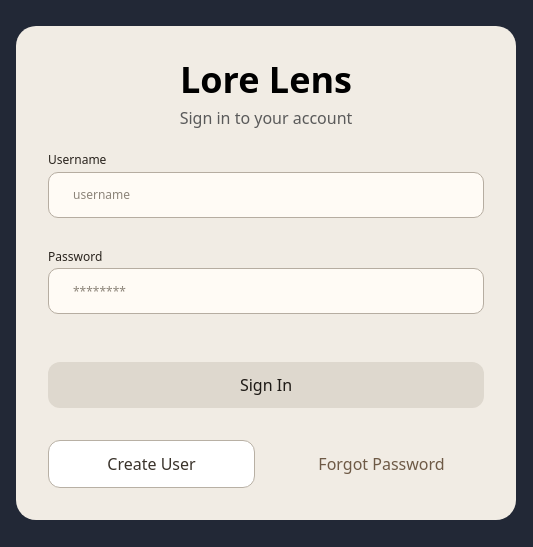
it: LoginPage › error handling › shows a field-level message when the backend returns a validation error
Type "ab" into the field labelled "Username" at (266, 195), box x1=48 y1=172 x2=484 y2=218
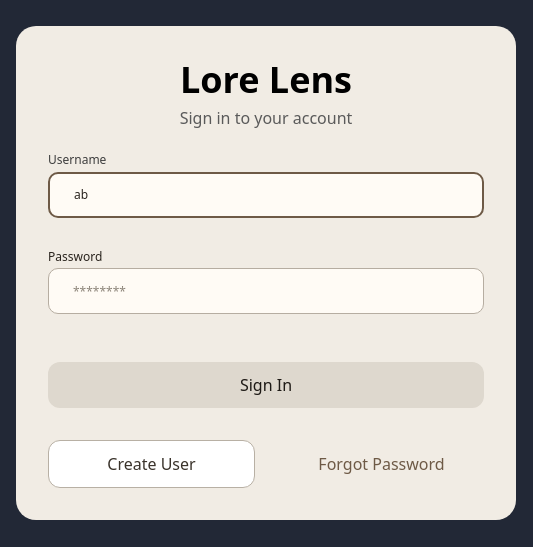
Type "strongPassword" into the password field labelled "Password" at (266, 291), box x1=48 y1=268 x2=484 y2=314
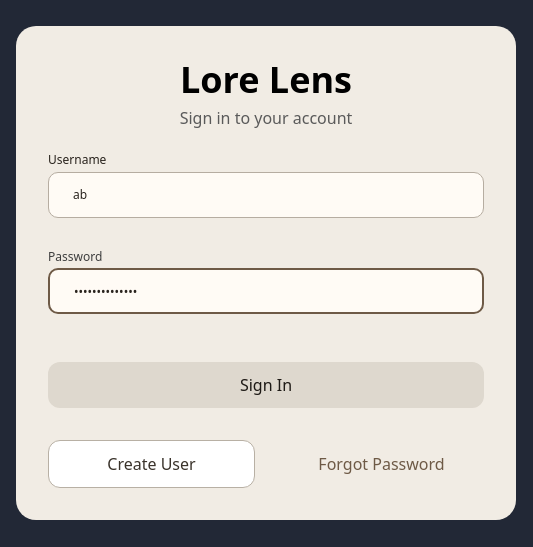
Click the button "Sign In" at (266, 385), box x1=48 y1=362 x2=484 y2=408
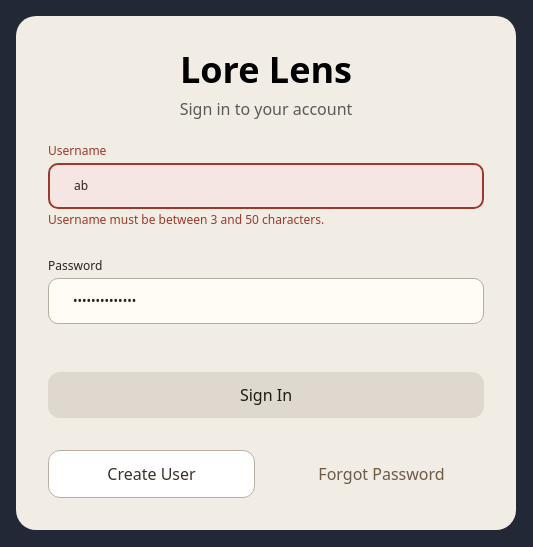
Now the text "Username must be between 3 and 50 characters." is shown, box x1=48 y1=211 x2=324 y2=228
